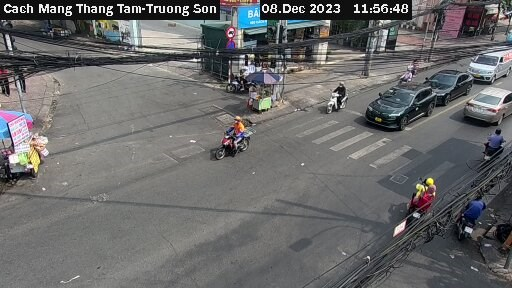car: (367, 80, 429, 130), (461, 78, 508, 121), (468, 41, 512, 85), (425, 61, 463, 103)
motorbike: (400, 172, 445, 231), (211, 113, 260, 159), (449, 188, 483, 244), (322, 76, 359, 119), (474, 129, 510, 171), (399, 64, 422, 85)
